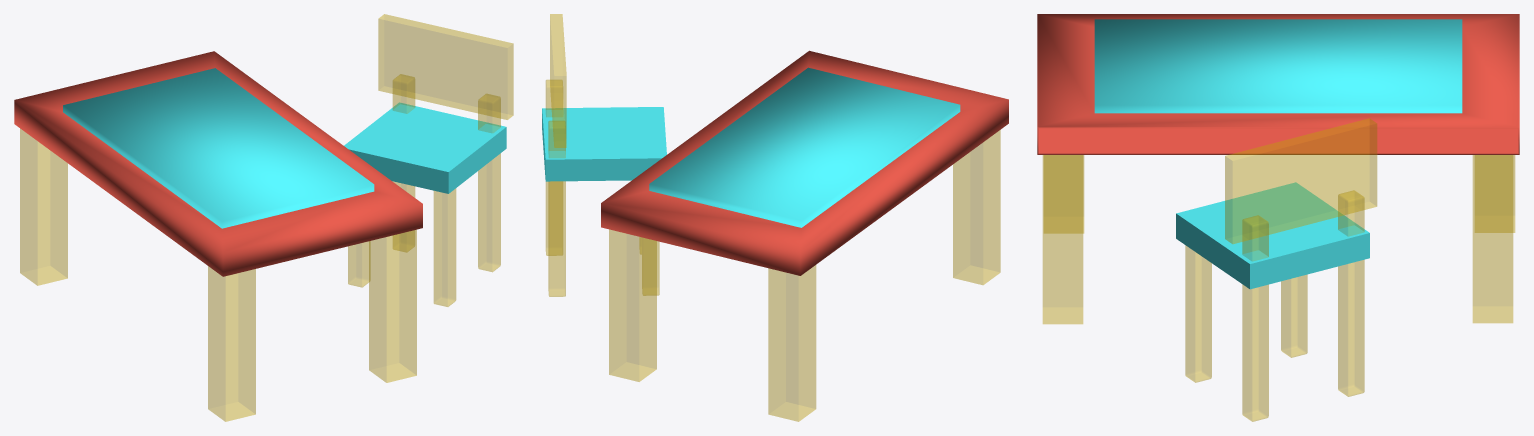
The model's file is desk.glb.
The picture shows the model from 3 angles, left to right: view 1: azimuth 30°, elevation 25°; view 2: azimuth 150°, elevation 25°; view 3: azimuth 270°, elevation 25°; orthographic projection. The views are drawn at different scales.
Parts seen in each view (by area): view 1: Cube, 立方体.005, 立方体.002, 立方体.004, 立方体.003, 立方体.001, 立方体.007, 立方体.009, 立方体.006, 立方体.008; view 2: Cube, 立方体.002, 立方体.001, 立方体, 立方体.004, 立方体.006, 立方体.005, 立方体.007, 立方体.008; view 3: Cube, 立方体.005, 立方体.002, 立方体.003, 立方体, 立方体.007, 立方体.006, 立方体.009, 立方体.004, 立方体.001, 立方体.008.
Part boxes in pixels (bbox=[...]): Cube: bbox=[14, 51, 422, 276]; 立方体.005: bbox=[378, 14, 513, 119]; 立方体.002: bbox=[344, 102, 506, 193]; 立方体.004: bbox=[208, 266, 255, 421]; 立方体.003: bbox=[369, 230, 416, 382]; 立方体.001: bbox=[20, 129, 67, 285]; 立方体.007: bbox=[478, 94, 500, 271]; 立方体.009: bbox=[434, 189, 455, 306]; 立方体.006: bbox=[393, 74, 414, 252]; 立方体.008: bbox=[348, 241, 370, 287]; Cube: bbox=[601, 50, 1008, 275]; 立方体.002: bbox=[542, 107, 666, 181]; 立方体.001: bbox=[768, 265, 815, 421]; 立方体: bbox=[609, 229, 656, 381]; 立方体.004: bbox=[953, 130, 1000, 284]; 立方体.006: bbox=[548, 121, 565, 296]; 立方体.005: bbox=[550, 14, 566, 147]; 立方体.007: bbox=[546, 80, 562, 255]; 立方体.008: bbox=[642, 238, 659, 295]; Cube: bbox=[1037, 14, 1519, 154]; 立方体.005: bbox=[1225, 118, 1376, 243]; 立方体.002: bbox=[1176, 182, 1369, 289]; 立方体.003: bbox=[1043, 155, 1082, 323]; 立方体: bbox=[1473, 155, 1512, 322]; 立方体.007: bbox=[1242, 215, 1268, 421]; 立方体.006: bbox=[1338, 190, 1364, 396]; 立方体.009: bbox=[1185, 245, 1211, 382]; 立方体.004: bbox=[1044, 155, 1083, 233]; 立方体.001: bbox=[1475, 155, 1514, 232]; 立方体.008: bbox=[1281, 275, 1307, 357].
Size of what is drawn, in the model's own units: 3.46 by 2.01 by 3.33.
